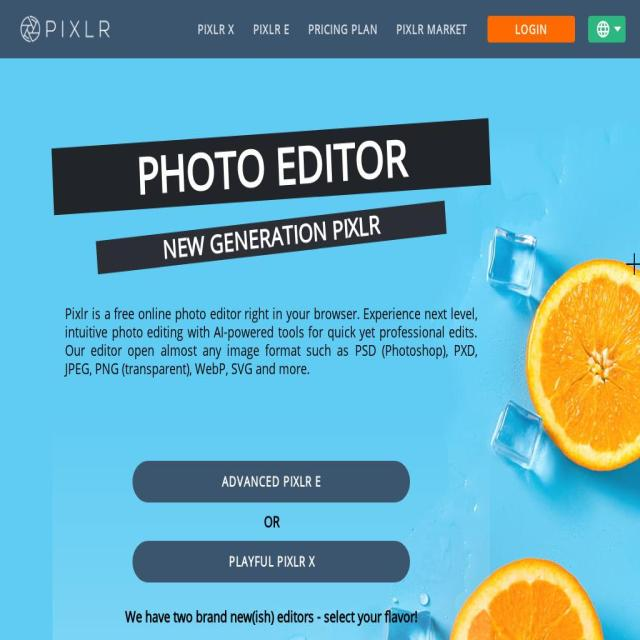button: (132, 461, 410, 502), (132, 541, 410, 582), (19, 13, 116, 45), (487, 16, 575, 42), (308, 18, 378, 42), (396, 18, 466, 42), (588, 16, 626, 42), (252, 18, 290, 42), (197, 18, 234, 42)
heading: (52, 117, 490, 185), (96, 200, 446, 234)
image: (19, 13, 116, 45), (596, 21, 610, 37)
text: (65, 304, 477, 378), (52, 607, 490, 626), (263, 506, 279, 536)
